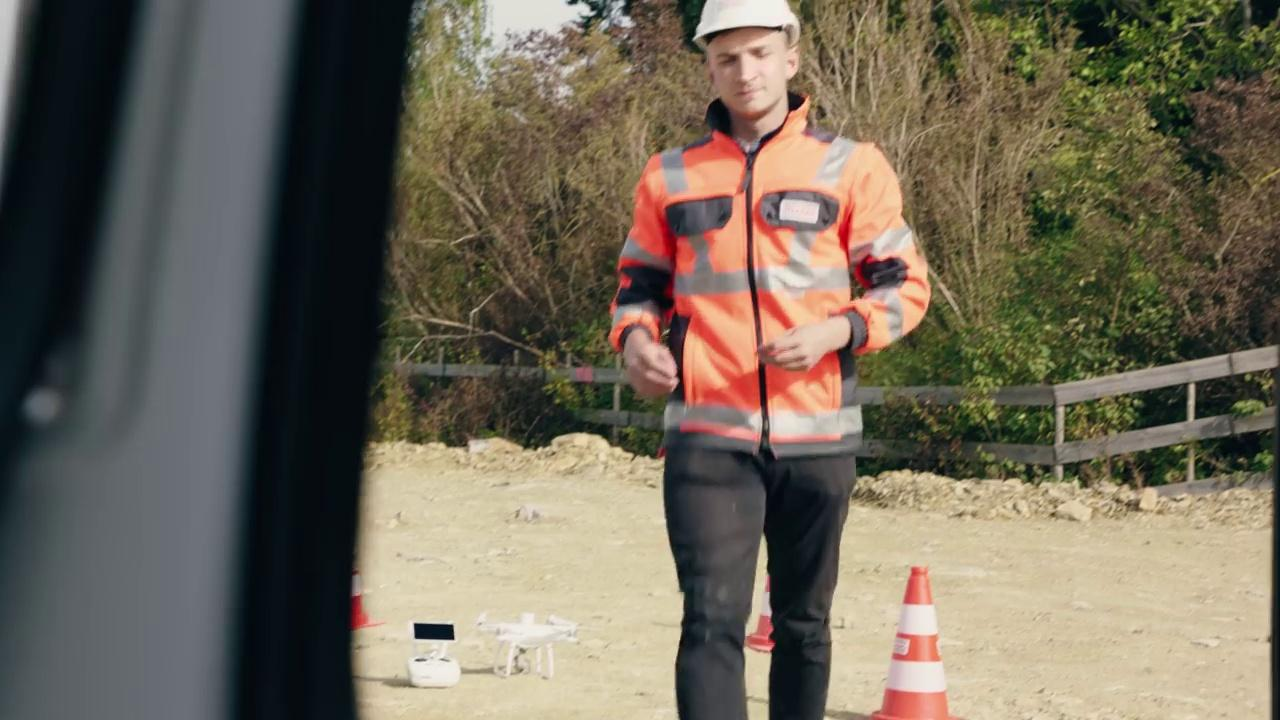drone: (473, 608, 584, 683)
